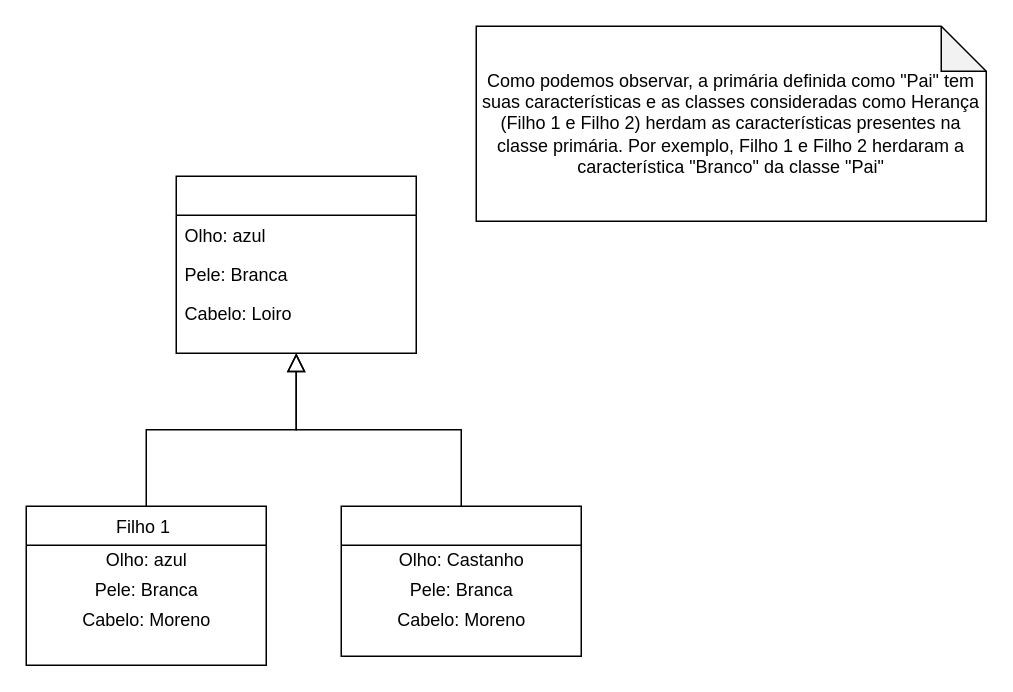
This 1013x692 diagram has some shape labels left out. Each missing label, with the box of its shape:
Filho 2: (340, 505, 581, 656)
Pai: (175, 175, 416, 353)
